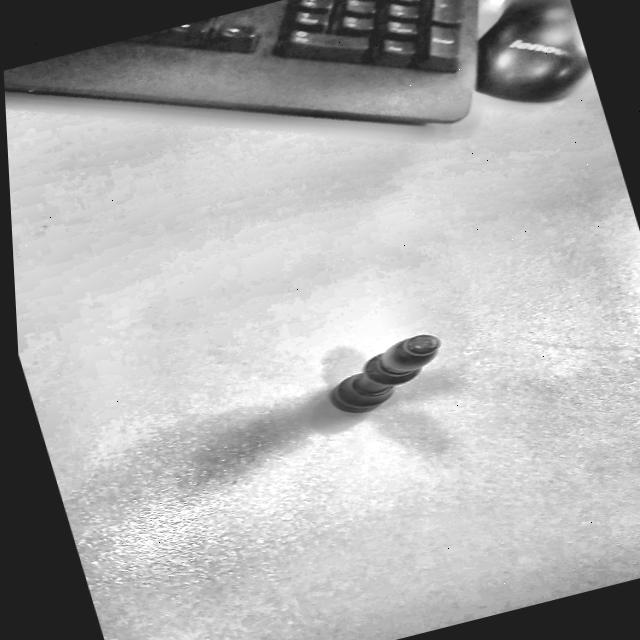black-bishop: (307, 325, 461, 426)
